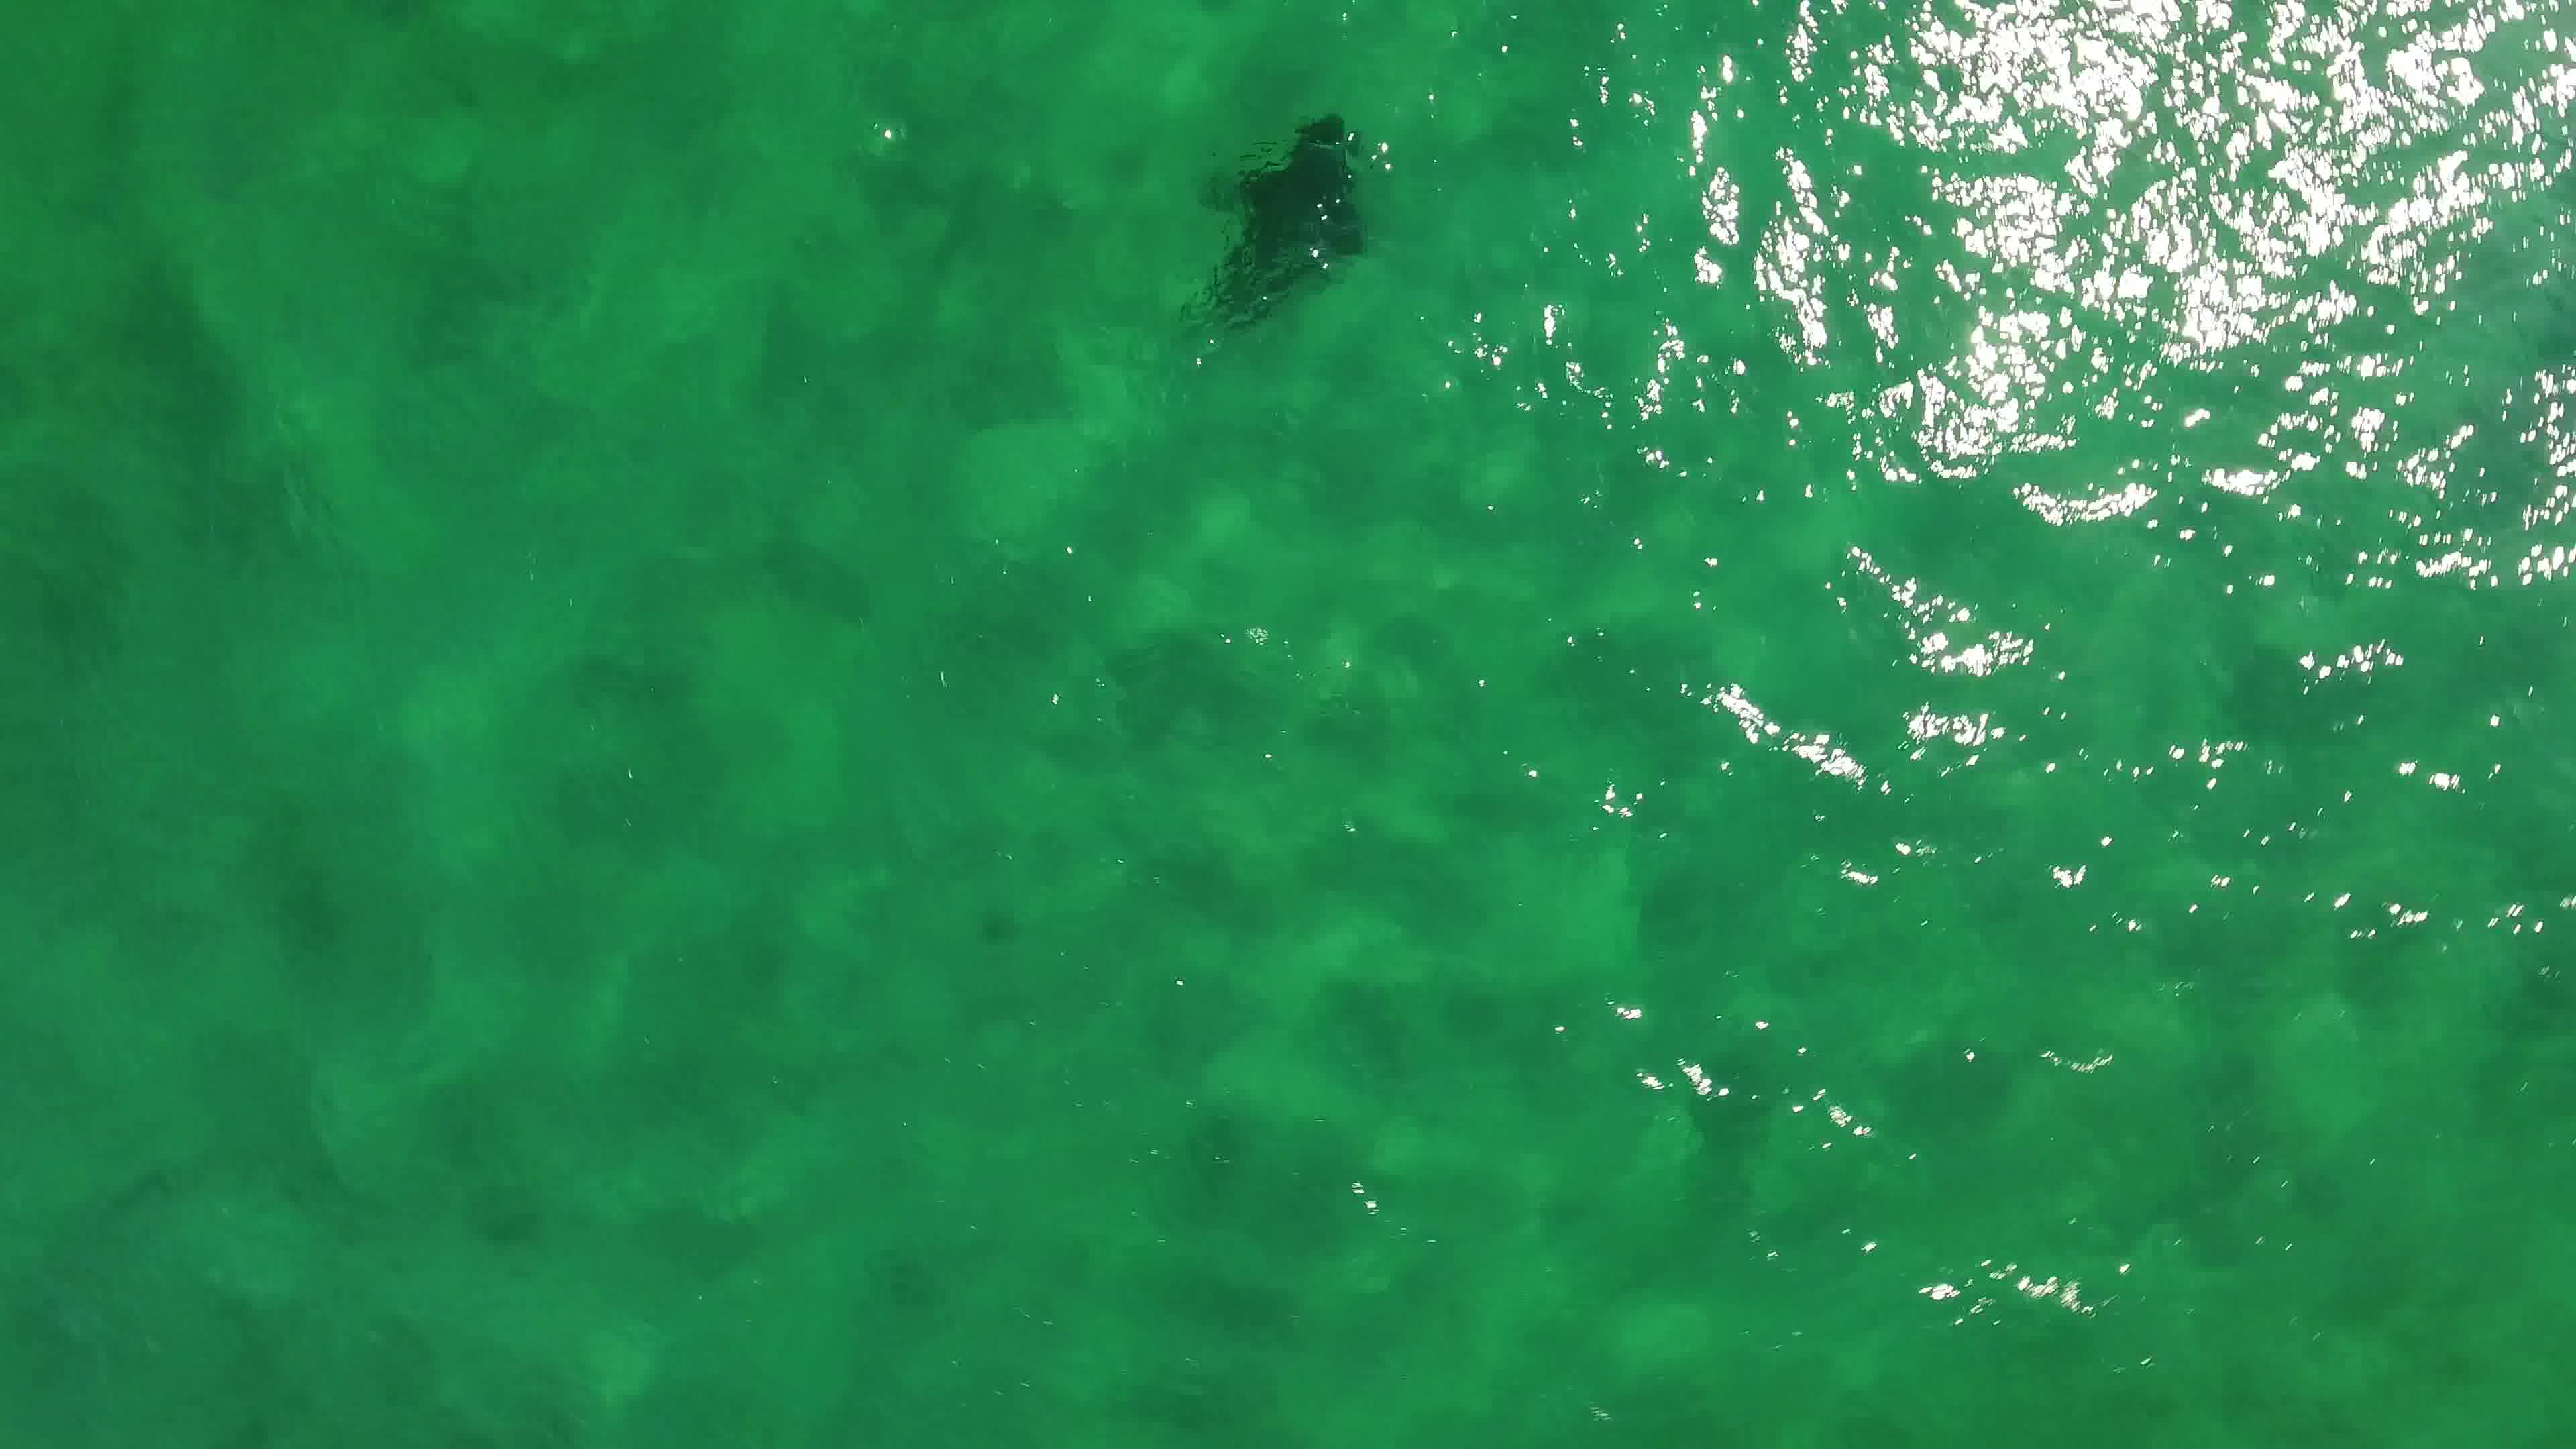shark: (1171, 103, 1378, 357)
